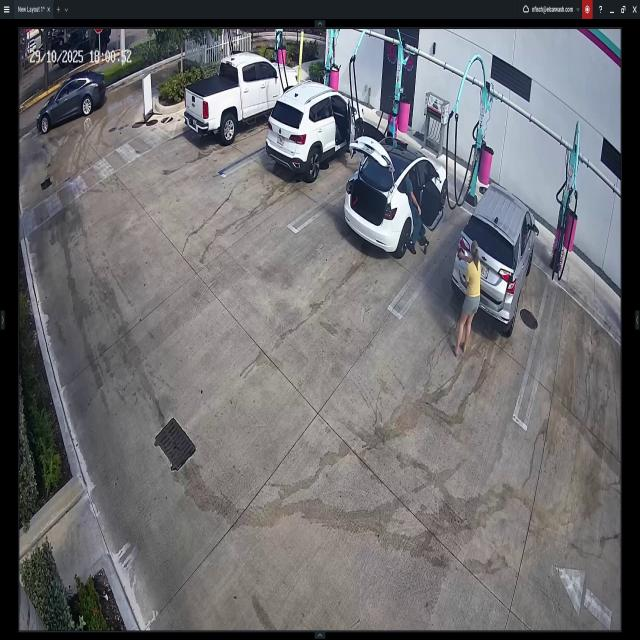Car: (347, 134, 448, 255), (454, 195, 539, 332), (262, 83, 363, 180), (188, 58, 298, 140), (36, 77, 106, 134)
